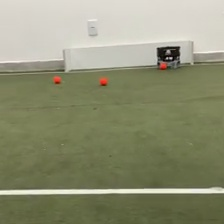ball: (158, 60, 168, 70), (53, 74, 61, 84), (99, 78, 108, 86)
goal: (61, 37, 194, 72)
robot: (156, 44, 182, 69)
